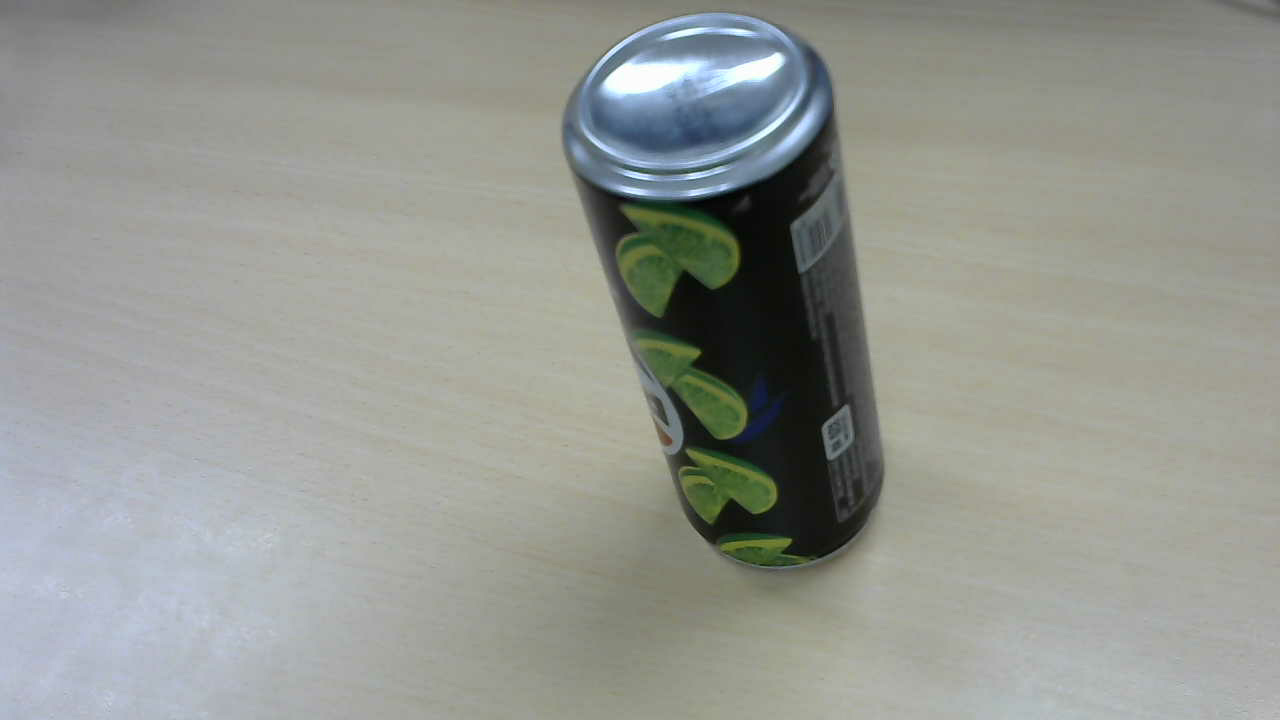Pepsi: (557, 20, 896, 576)
